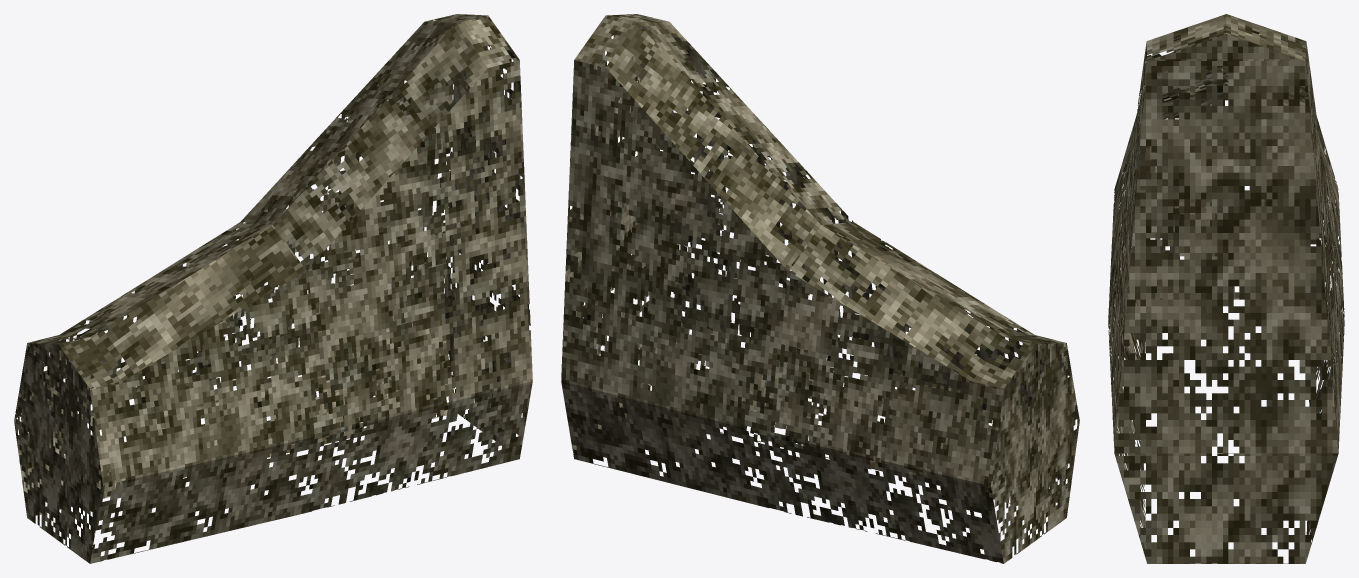
The model's file is bush_connector_ornamental_dead.glb.
3 renders of one model, left to right at view 1: azimuth 30°, elevation 25°; view 2: azimuth 150°, elevation 25°; view 3: azimuth 270°, elevation 25°, orthographic. The views are drawn at different scales.
Parts seen in each view (by area): view 1: bush_connector_ornamental_dead; view 2: bush_connector_ornamental_dead; view 3: bush_connector_ornamental_dead.
Part boxes in pixels (x1,y1,x2,y2): bush_connector_ornamental_dead: [14, 14, 532, 563]; bush_connector_ornamental_dead: [561, 14, 1079, 563]; bush_connector_ornamental_dead: [1108, 14, 1344, 563].
Size of the model in its own units: 2.01 by 1.88 by 0.7592.
Materials: 1 (1 with a texture image).
